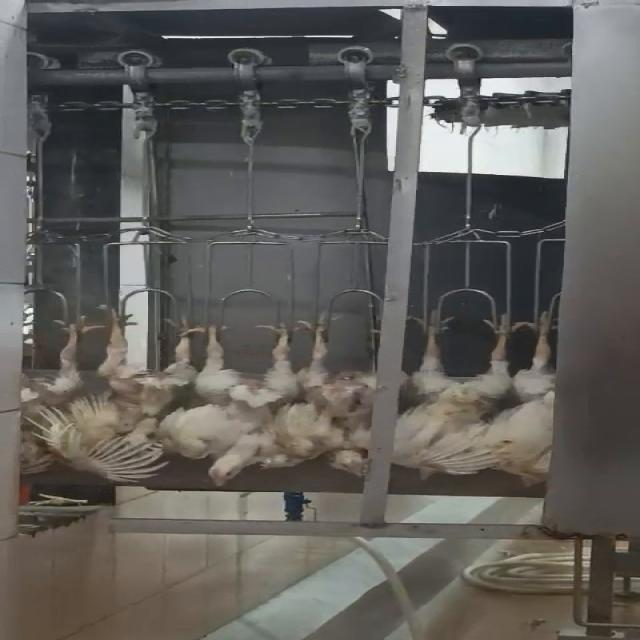chicken: (164, 319, 304, 488), (391, 304, 523, 482), (277, 307, 403, 475), (94, 312, 214, 484), (14, 309, 96, 479), (489, 306, 565, 487)
